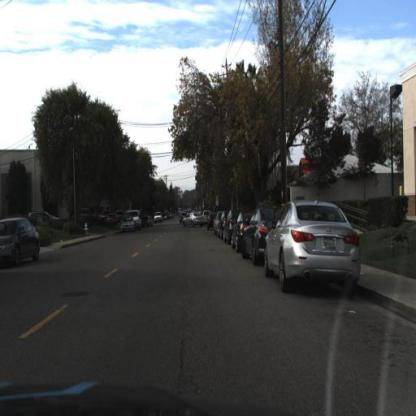car: (264, 199, 365, 292), (1, 217, 42, 269), (242, 204, 270, 264), (180, 210, 207, 231), (108, 214, 130, 237)
